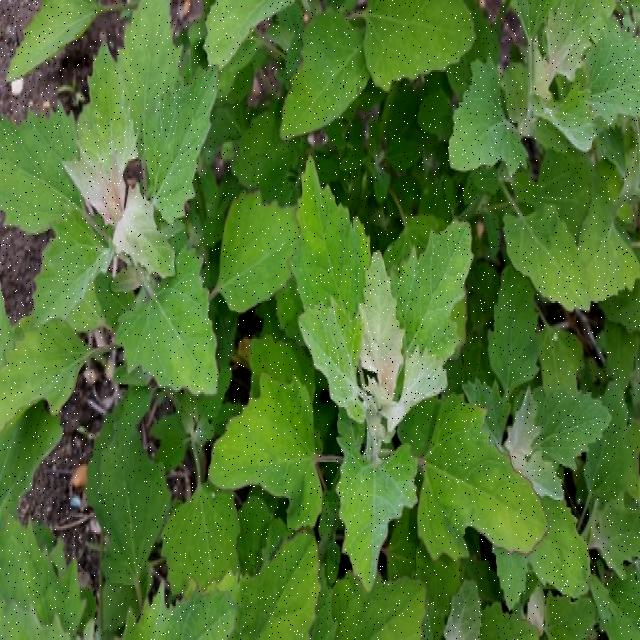NA: (91, 68, 615, 564)
